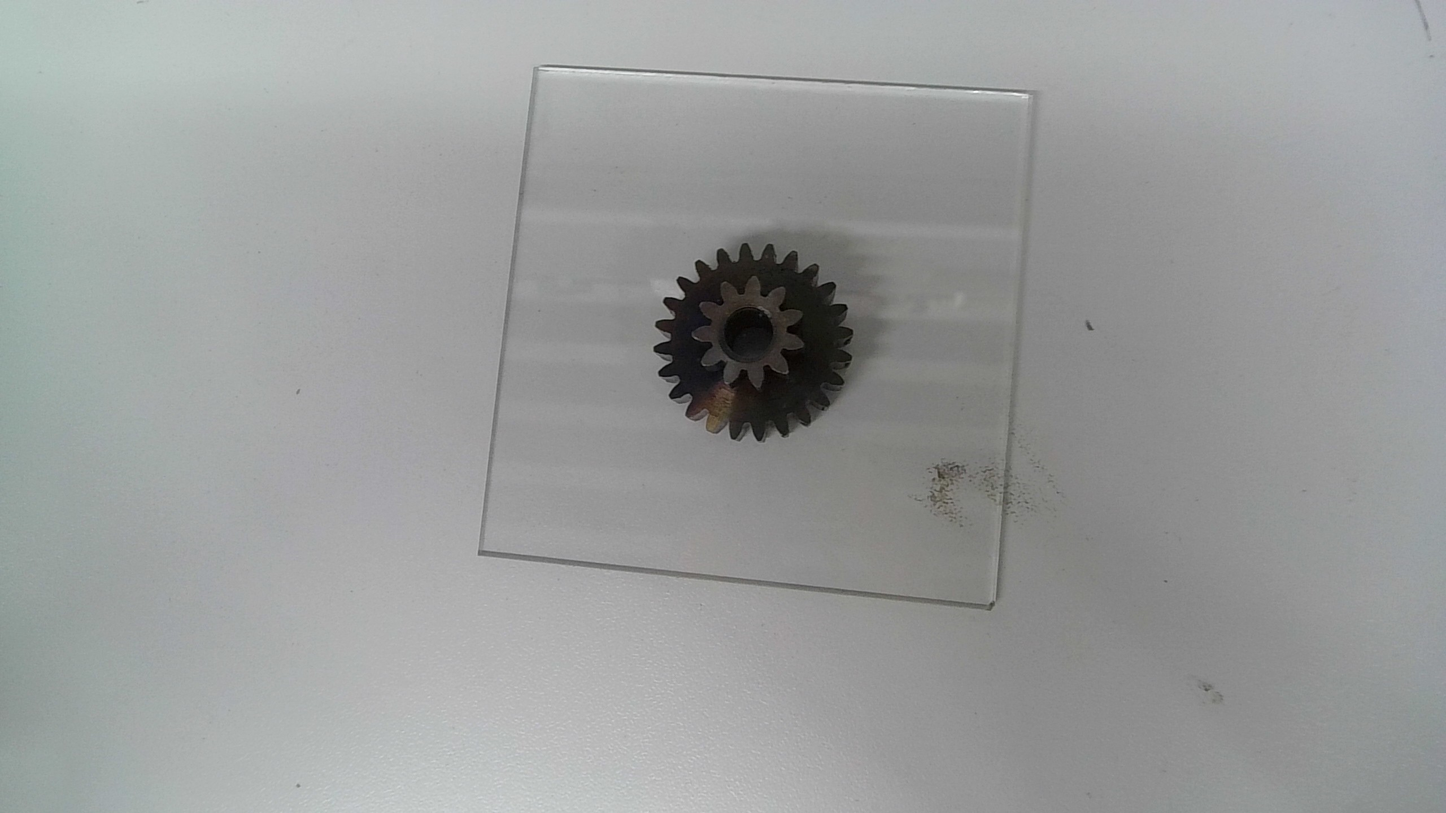gear: (651, 238, 857, 445)
